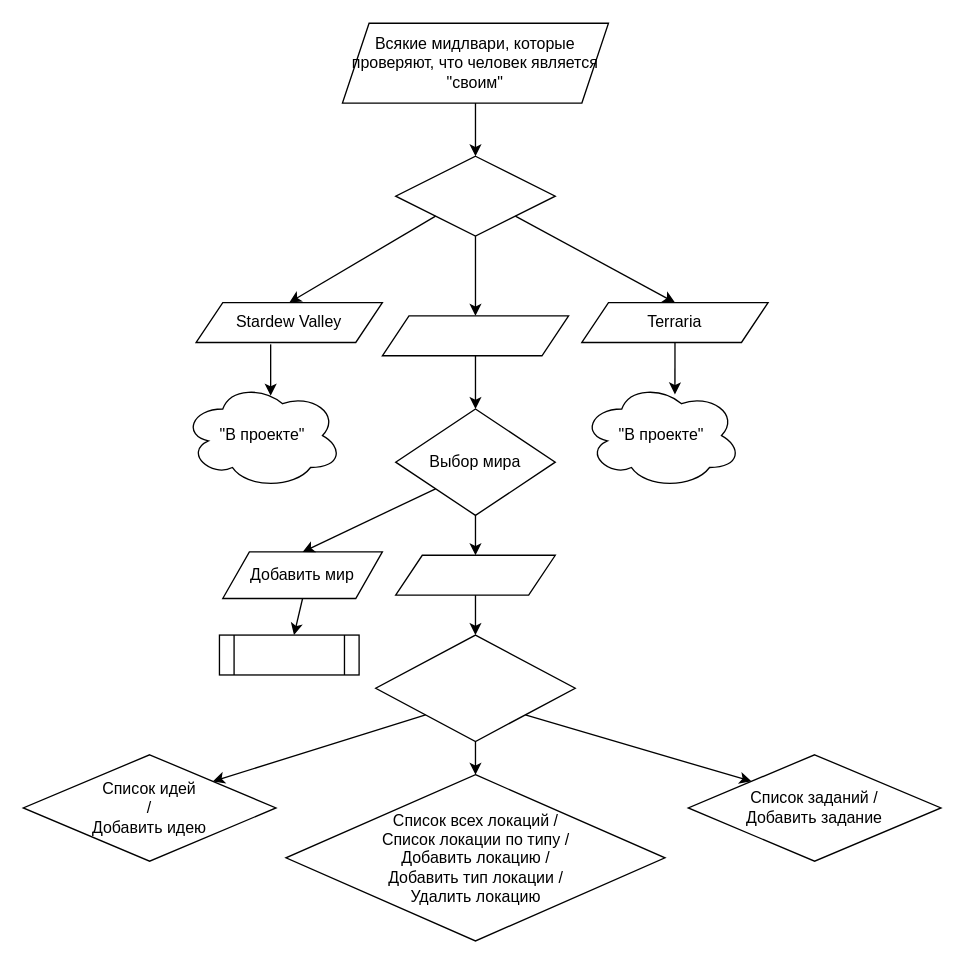
This 964x964 diagram has some shape labels left out. Each missing label, with the box of its shape:
Minecraft: (381, 315, 569, 356)
Выбор игры: (394, 155, 555, 236)
Действие: (374, 634, 575, 741)
Добавление мира: (218, 634, 359, 675)
Мир N: (394, 554, 555, 595)
